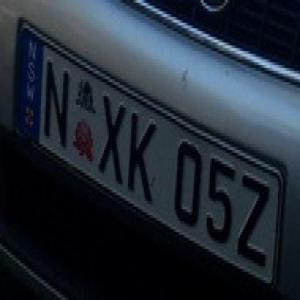Plate: (12, 7, 282, 293)
